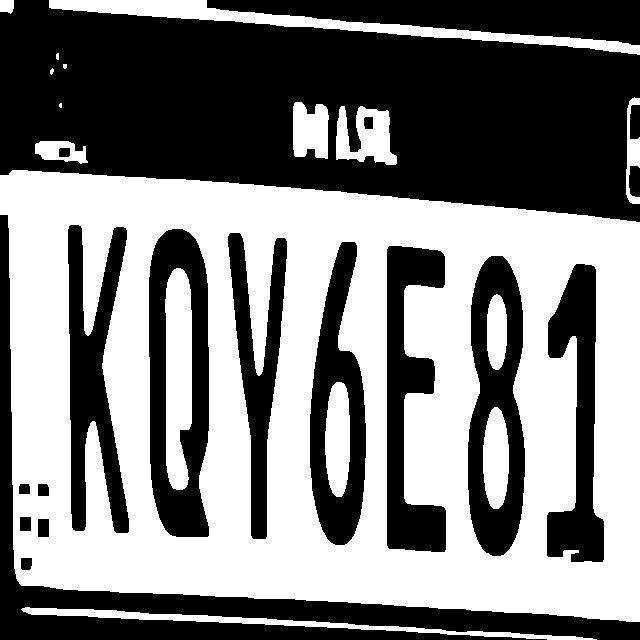1: (542, 257, 608, 572)
6: (306, 238, 369, 549)
8: (466, 251, 530, 559)
e: (383, 242, 451, 558)
k: (64, 215, 134, 541)
q: (146, 224, 217, 542)
y: (226, 227, 288, 545)
